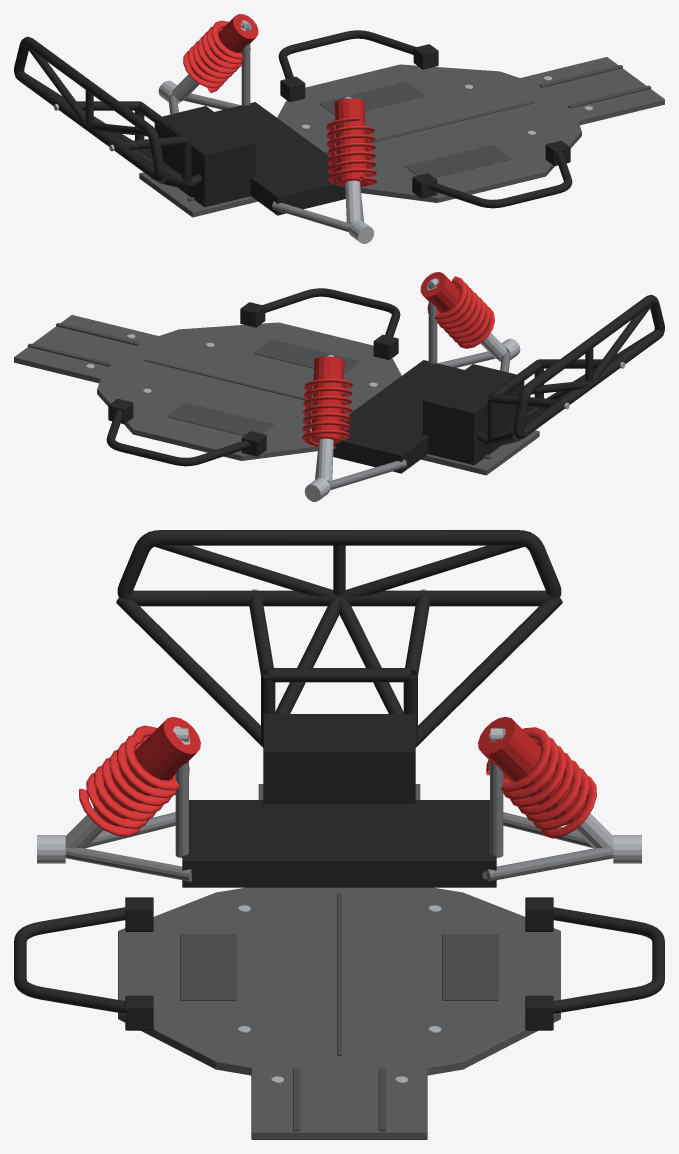
File: roboracer_frame.dae
3 views of the same model, one above another, from view 1: azimuth 30°, elevation 25°; view 2: azimuth 150°, elevation 25°; view 3: azimuth 270°, elevation 25° (orthographic). The views are drawn at different scales.
Visible parts, largest first — view 1: Frame_Chassis_Plate, Frame_Rear_Suspension, Frame_Rear_Bumper, Frame_Nerf_Bars; view 2: Frame_Chassis_Plate, Frame_Rear_Suspension, Frame_Rear_Bumper, Frame_Nerf_Bars; view 3: Frame_Chassis_Plate, Frame_Rear_Bumper, Frame_Rear_Suspension, Frame_Nerf_Bars.
Boxes of the visible parts, x1,y1,x2,y2 form: Frame_Chassis_Plate: (139,57,664,217); Frame_Rear_Suspension: (158,14,376,243); Frame_Rear_Bumper: (14,36,201,189); Frame_Nerf_Bars: (278,30,572,208); Frame_Chassis_Plate: (14,315,539,475); Frame_Rear_Suspension: (302,272,520,501); Frame_Rear_Bumper: (477,294,664,447); Frame_Nerf_Bars: (106,288,400,466); Frame_Chassis_Plate: (118,714,560,1139); Frame_Rear_Bumper: (116,530,562,747); Frame_Rear_Suspension: (37,716,641,881); Frame_Nerf_Bars: (14,897,664,1030).
Bounding box in the file's own units: 0.4068 × 0.2734 × 0.095.
